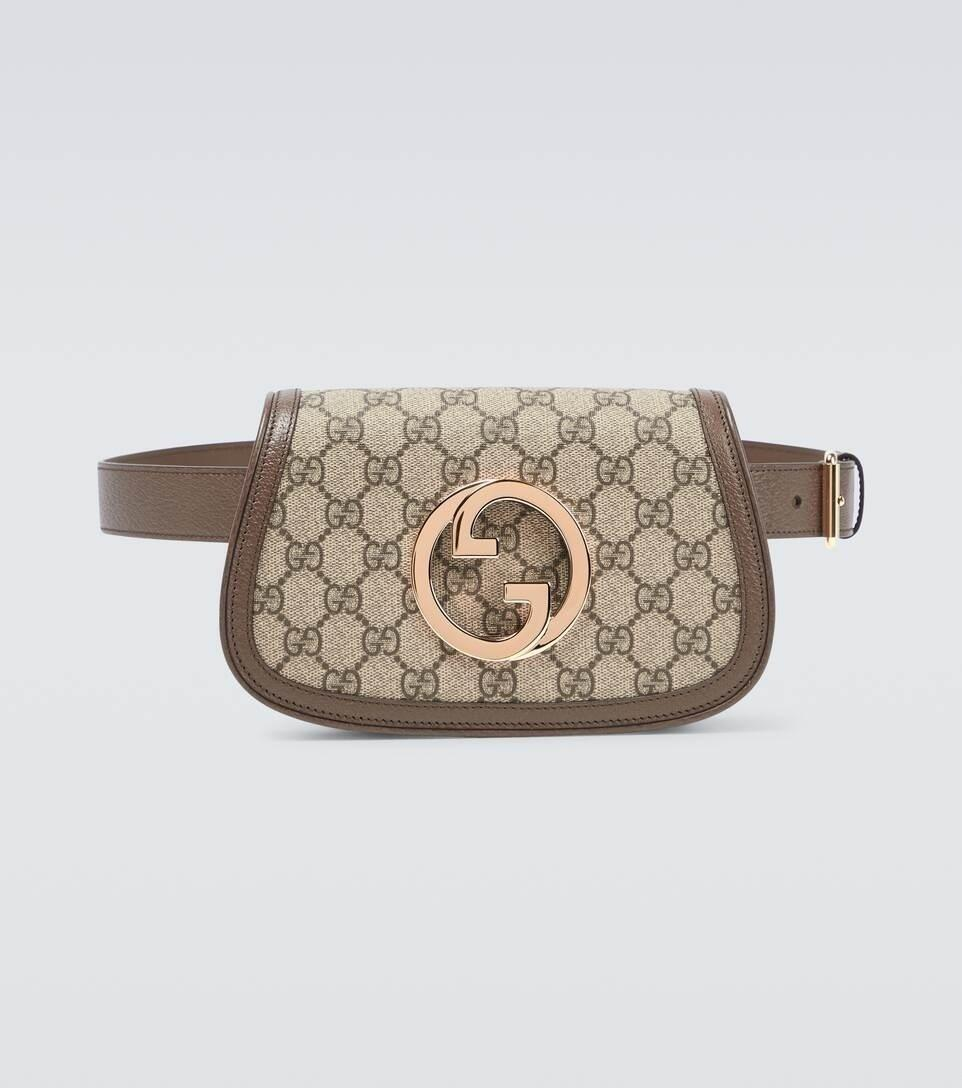GUCCI: (411, 478, 591, 663)
